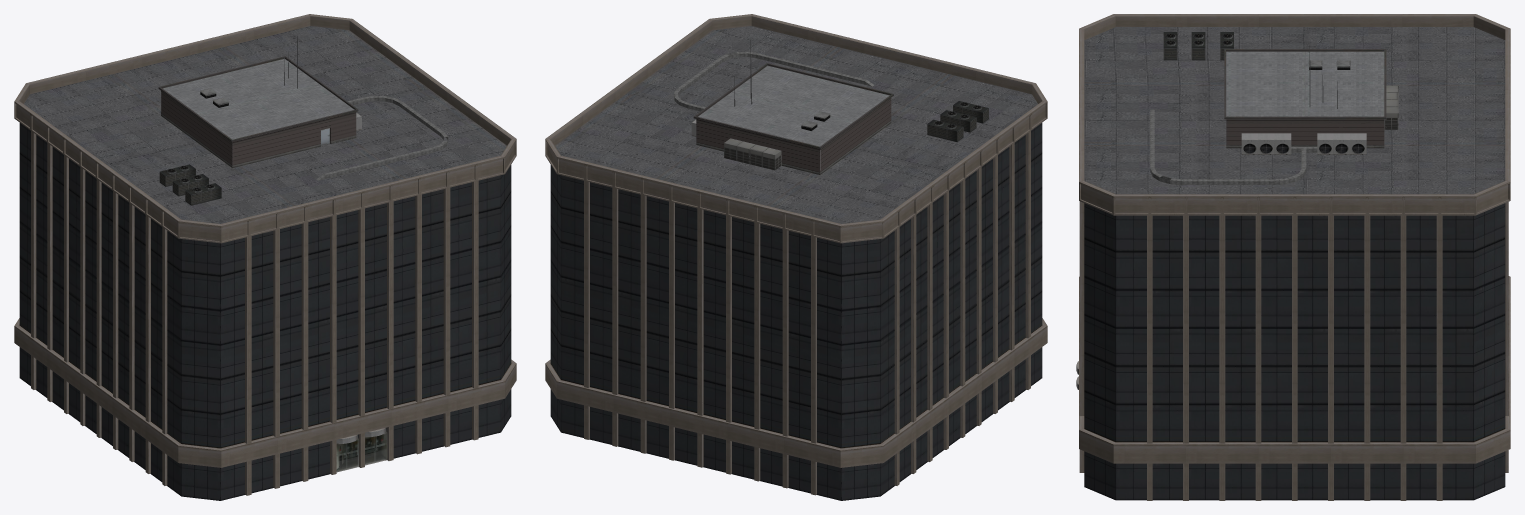
3 renders of one model, left to right at view 1: azimuth 30°, elevation 25°; view 2: azimuth 150°, elevation 25°; view 3: azimuth 270°, elevation 25°, orthographic. The views are drawn at different scales.
Size of the model in its own units: 3280 by 3273 by 3300.
Materials: 1 (1 with a texture image).
